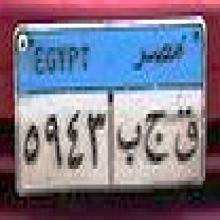3: (85, 103, 107, 174)
4: (64, 105, 85, 177)
5: (22, 117, 40, 169)
9: (44, 107, 62, 176)
baa: (116, 111, 142, 172)
jeem: (143, 103, 169, 174)
qaaf: (173, 104, 200, 169)
